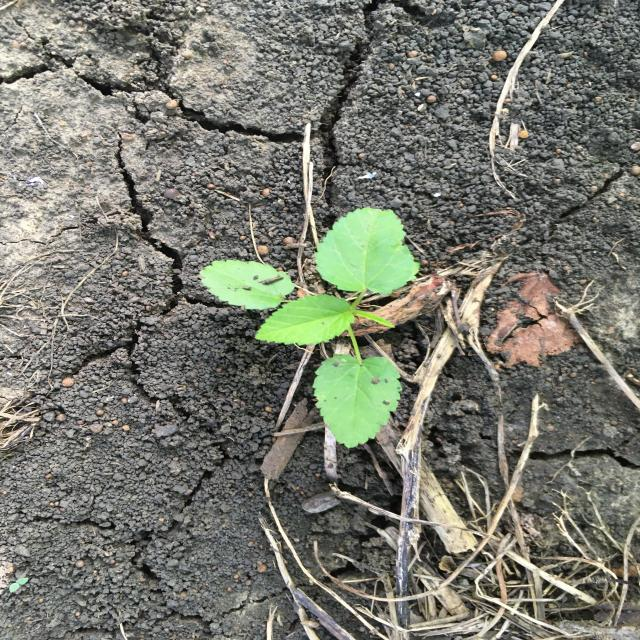PricklySida: (196, 206, 422, 449)
